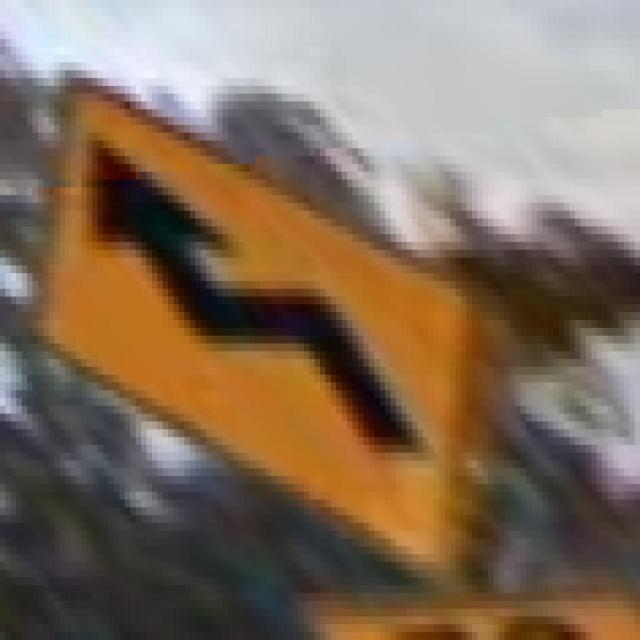Tikungan Ganda Pertama Ke Kiri: (22, 47, 477, 585)
